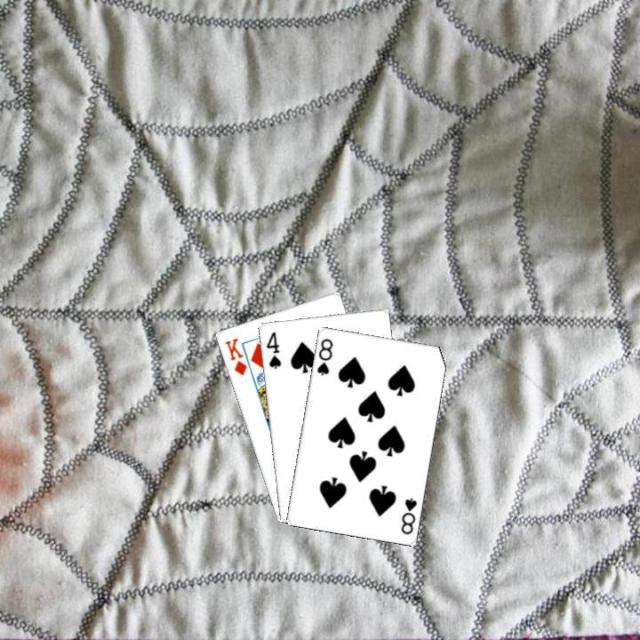4S: (262, 327, 283, 370)
8S: (396, 493, 418, 536), (313, 334, 334, 377)
KD: (220, 334, 249, 378)
